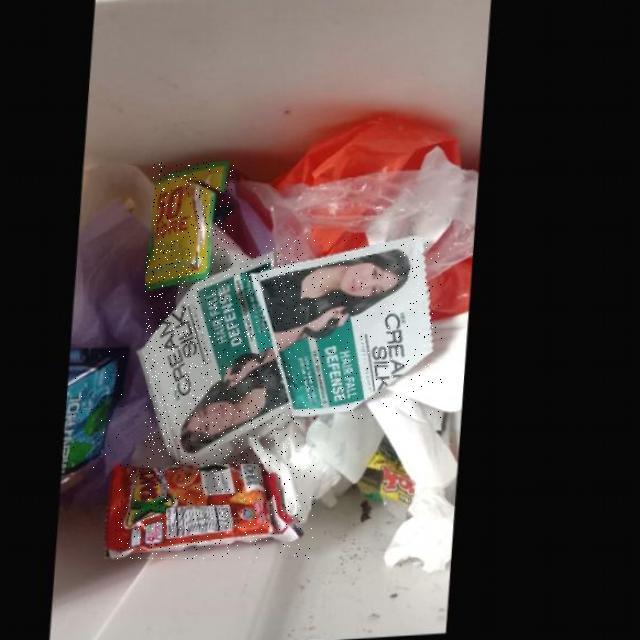wrapper: (258, 238, 442, 419), (146, 253, 299, 464), (115, 465, 316, 559), (152, 163, 234, 292), (72, 349, 127, 476)
